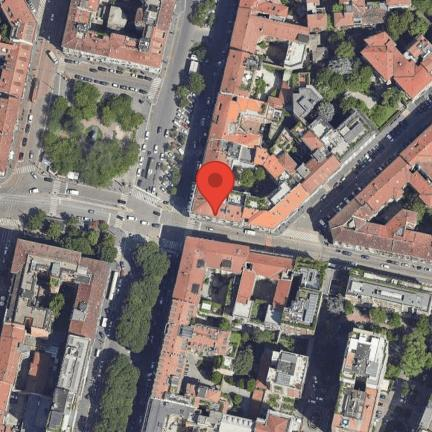area_open: (133, 0, 238, 211), (39, 79, 148, 190), (119, 192, 187, 249), (271, 210, 341, 262), (2, 157, 47, 214), (30, 39, 70, 77)
built: (324, 157, 432, 262), (150, 304, 232, 402), (173, 235, 250, 307), (44, 335, 100, 432), (189, 143, 248, 227), (342, 266, 432, 316), (6, 272, 69, 339), (232, 1, 311, 54), (67, 257, 117, 340), (233, 249, 293, 317), (245, 181, 317, 233), (14, 237, 85, 282), (206, 94, 267, 146), (2, 323, 31, 432), (341, 330, 393, 390), (17, 332, 63, 398), (361, 32, 417, 82), (111, 26, 170, 71), (393, 32, 432, 100), (330, 382, 379, 432), (280, 284, 326, 333), (219, 47, 262, 98), (0, 42, 33, 103), (61, 0, 99, 52), (0, 0, 41, 48), (302, 153, 347, 196), (2, 95, 24, 176), (403, 124, 432, 185), (265, 352, 310, 391), (219, 410, 293, 432), (142, 0, 180, 34), (297, 148, 333, 182), (294, 84, 325, 123), (20, 397, 51, 432), (269, 67, 294, 109), (87, 31, 114, 57), (263, 152, 287, 180), (278, 149, 301, 177), (284, 41, 307, 69), (307, 0, 329, 28), (302, 129, 326, 154), (291, 122, 310, 141), (333, 13, 355, 29), (255, 147, 269, 165), (387, 0, 412, 9), (338, 0, 367, 7)
vegetation_high: (311, 31, 412, 130), (339, 299, 432, 397), (213, 317, 309, 393), (111, 247, 175, 359), (81, 348, 149, 432), (20, 207, 122, 261), (383, 0, 432, 44)
